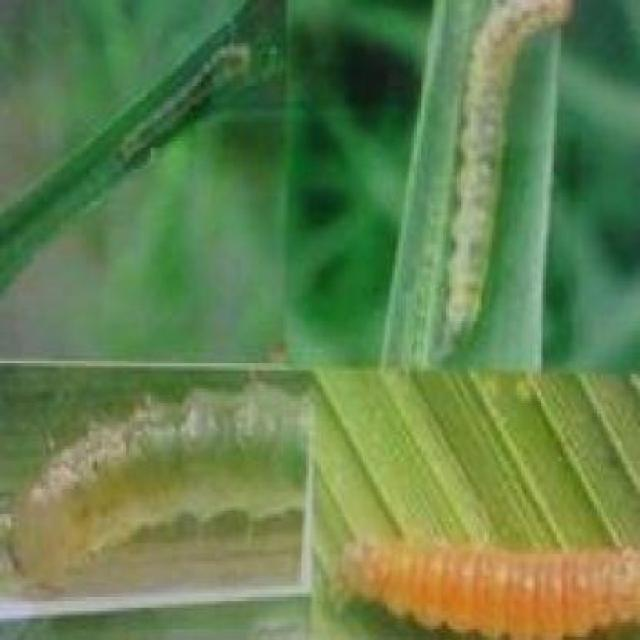leaf-folder: (394, 0, 591, 332), (14, 380, 309, 595), (331, 489, 640, 640), (86, 26, 272, 191)
